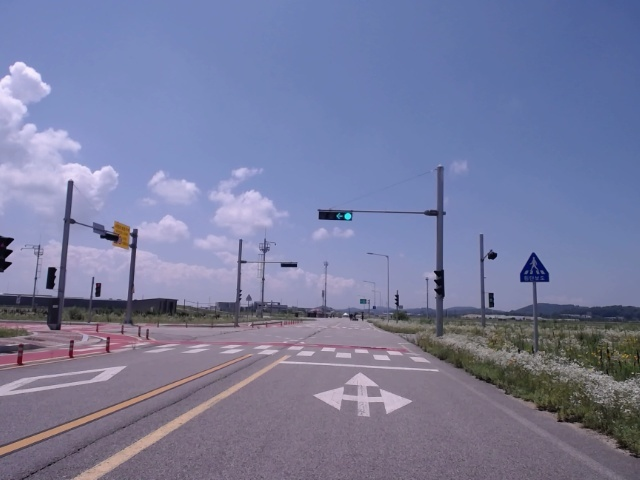all_green_4: (319, 208, 353, 221)
